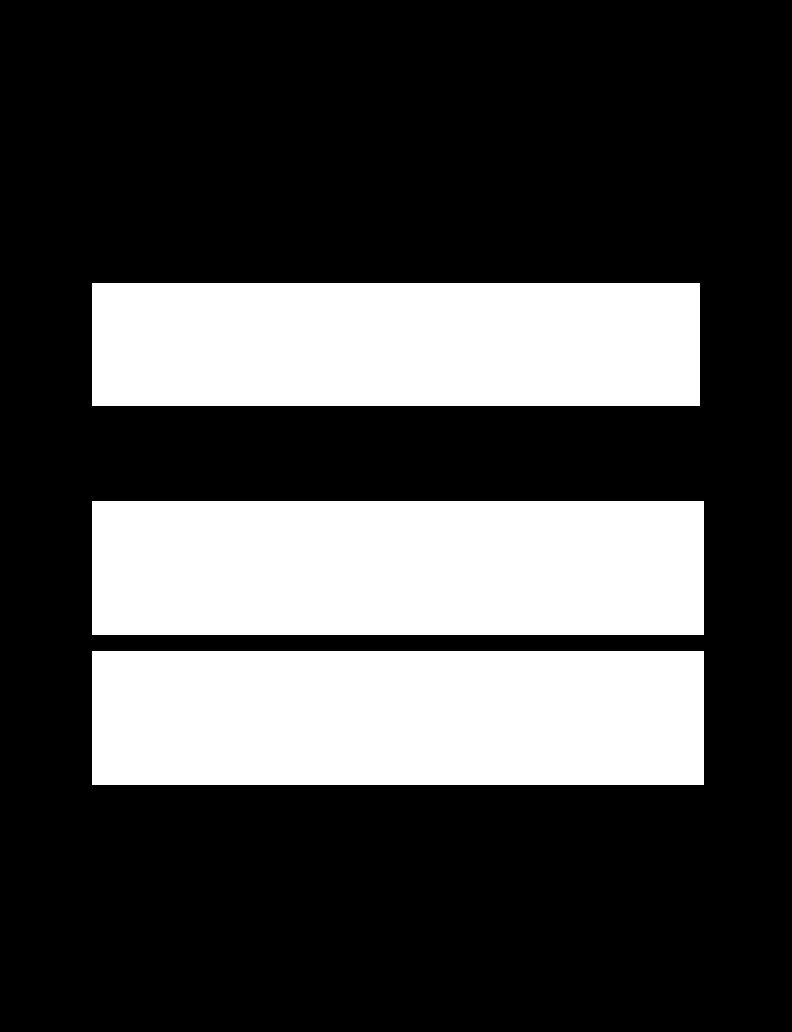table: (92, 501, 703, 634), (92, 651, 703, 784), (92, 283, 699, 405)
